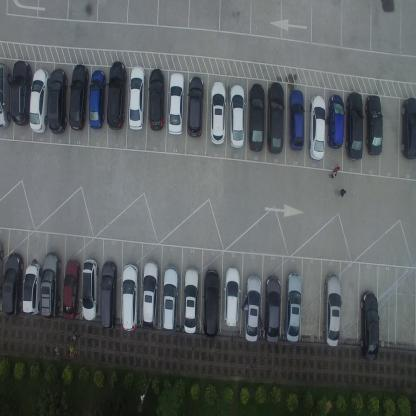car: (1, 252, 24, 318), (358, 290, 379, 362), (106, 60, 127, 131), (10, 60, 32, 126), (68, 63, 89, 132), (322, 274, 342, 346), (40, 251, 61, 319), (47, 66, 67, 135), (140, 259, 160, 328), (30, 66, 50, 134), (266, 80, 284, 154), (283, 272, 302, 342), (263, 274, 282, 344), (345, 90, 363, 161), (202, 268, 220, 339), (247, 82, 265, 152), (161, 264, 179, 332), (364, 93, 383, 157), (100, 259, 117, 330), (308, 93, 326, 160), (244, 274, 262, 341), (121, 262, 138, 332), (186, 74, 204, 138), (128, 64, 145, 131), (182, 266, 199, 333), (62, 258, 80, 321), (148, 68, 165, 133), (88, 69, 106, 130), (81, 258, 98, 322), (229, 82, 245, 149), (210, 79, 226, 146), (22, 261, 42, 314), (223, 266, 240, 327), (400, 97, 416, 161), (168, 72, 184, 136), (288, 88, 304, 151), (327, 94, 344, 150), (0, 62, 11, 129)
